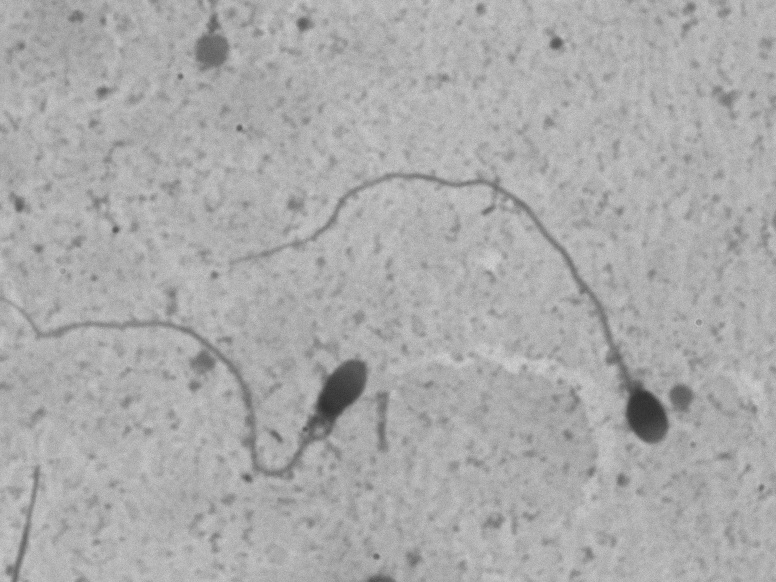Abnormal: (31, 291, 385, 507)
Normal: (209, 145, 686, 471)
